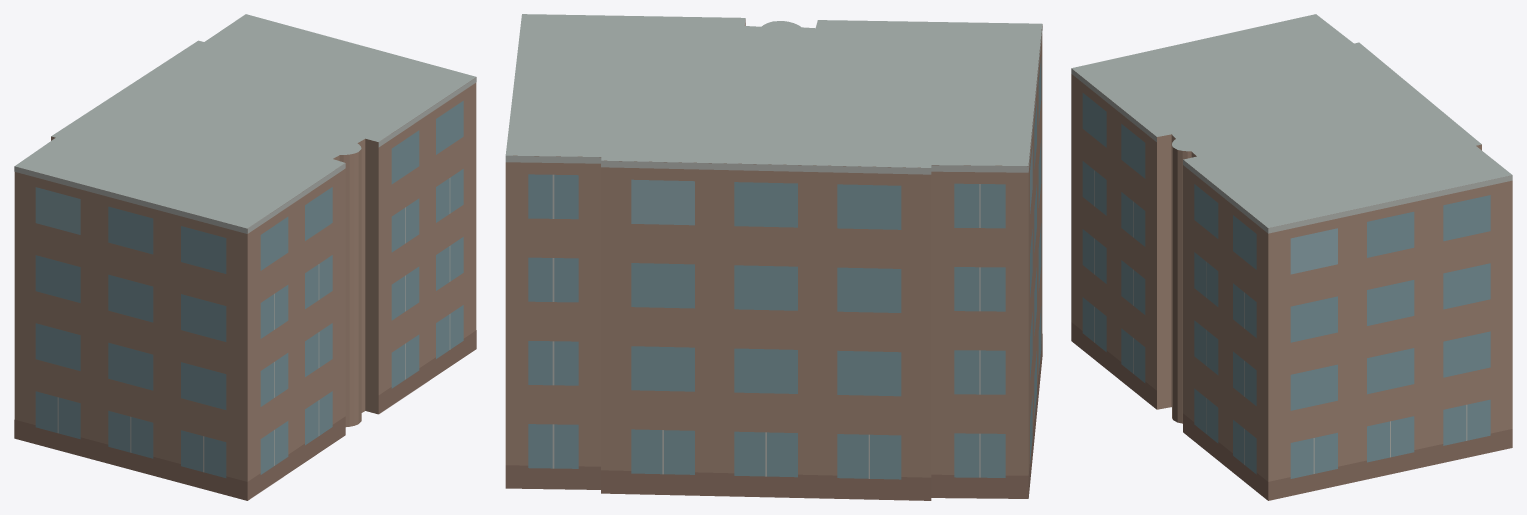
The model's file is survey-upis-32942323.glb.
The picture shows the model from 3 angles, left to right: view 1: azimuth 30°, elevation 25°; view 2: azimuth 150°, elevation 25°; view 3: azimuth 270°, elevation 25°; orthographic projection. The views are drawn at different scales.
Visible parts, largest first — view 1: survey-upis-32942323.tmp; view 2: survey-upis-32942323.tmp; view 3: survey-upis-32942323.tmp.
Boxes of the visible parts, x1=… form: survey-upis-32942323.tmp: x1=14, y1=14, x2=476, y2=500; survey-upis-32942323.tmp: x1=505, y1=14, x2=1042, y2=500; survey-upis-32942323.tmp: x1=1071, y1=14, x2=1512, y2=500.
Bounding box in the file's own units: 20.56 × 12.2 × 17.9.
